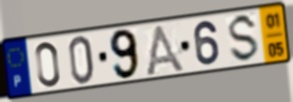0: (66, 33, 96, 86), (34, 40, 62, 89)
6: (192, 19, 222, 67)
9: (108, 28, 143, 81)
A: (143, 22, 188, 76)
S: (228, 12, 261, 65)
